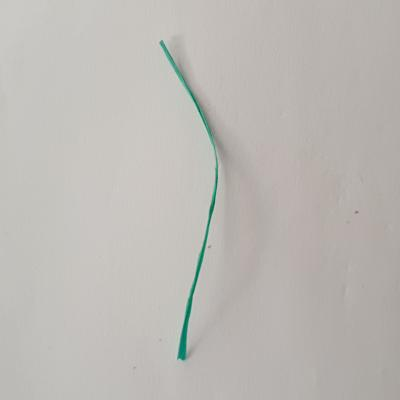thread: (144, 37, 229, 367)
